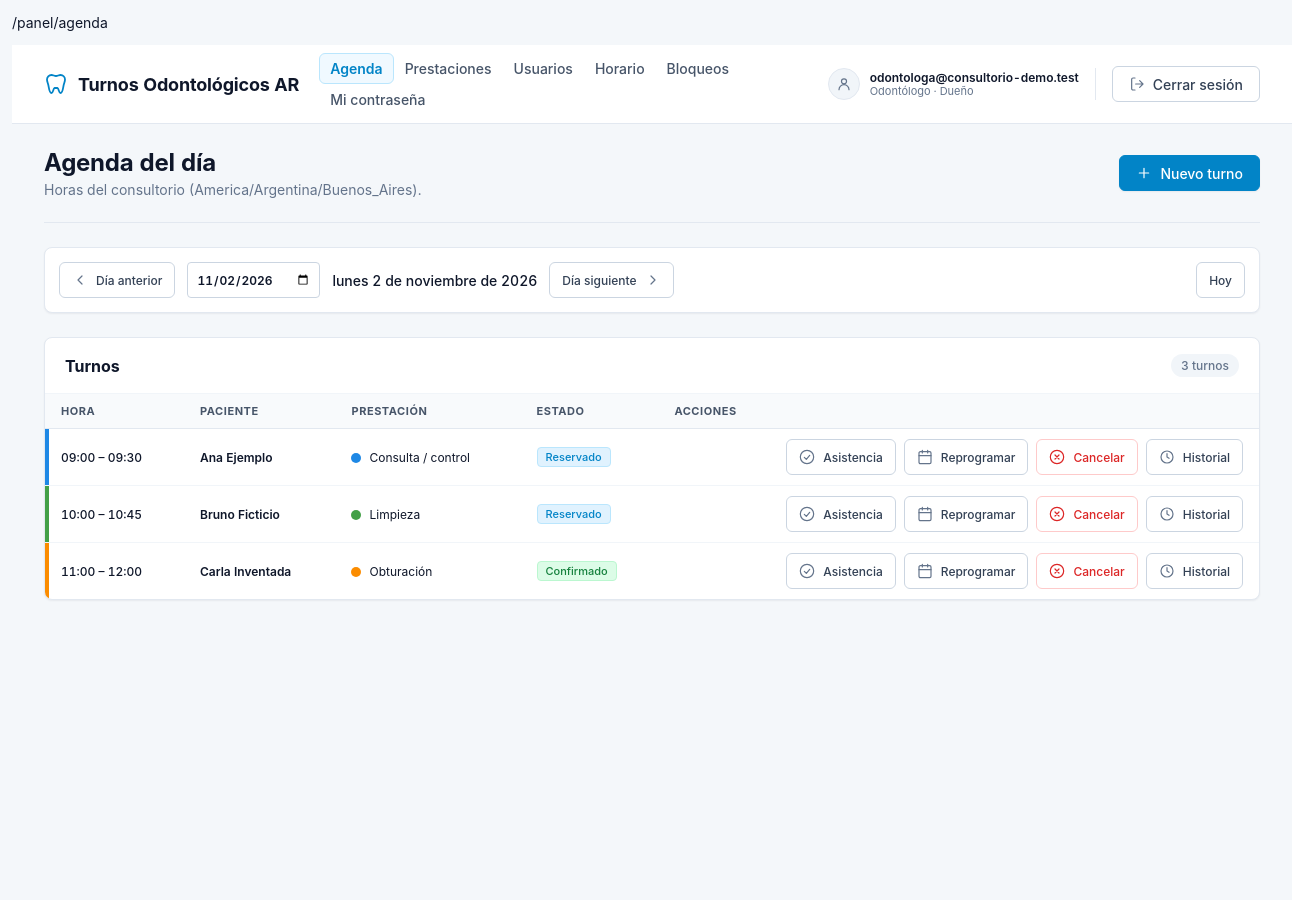
Test: PanelHistorial: ver el historial desde la agenda › HIS-2a: la odontóloga ve el historial
The image size is (1292, 900).
Expected: the text "lunes 2 de noviembre de 2026" is shown, [332,272,537,288]
Click the button with aria-label "Historial del turno de Ana Ejemplo, 09:00" at (1194, 457), box [1146,439,1243,475]
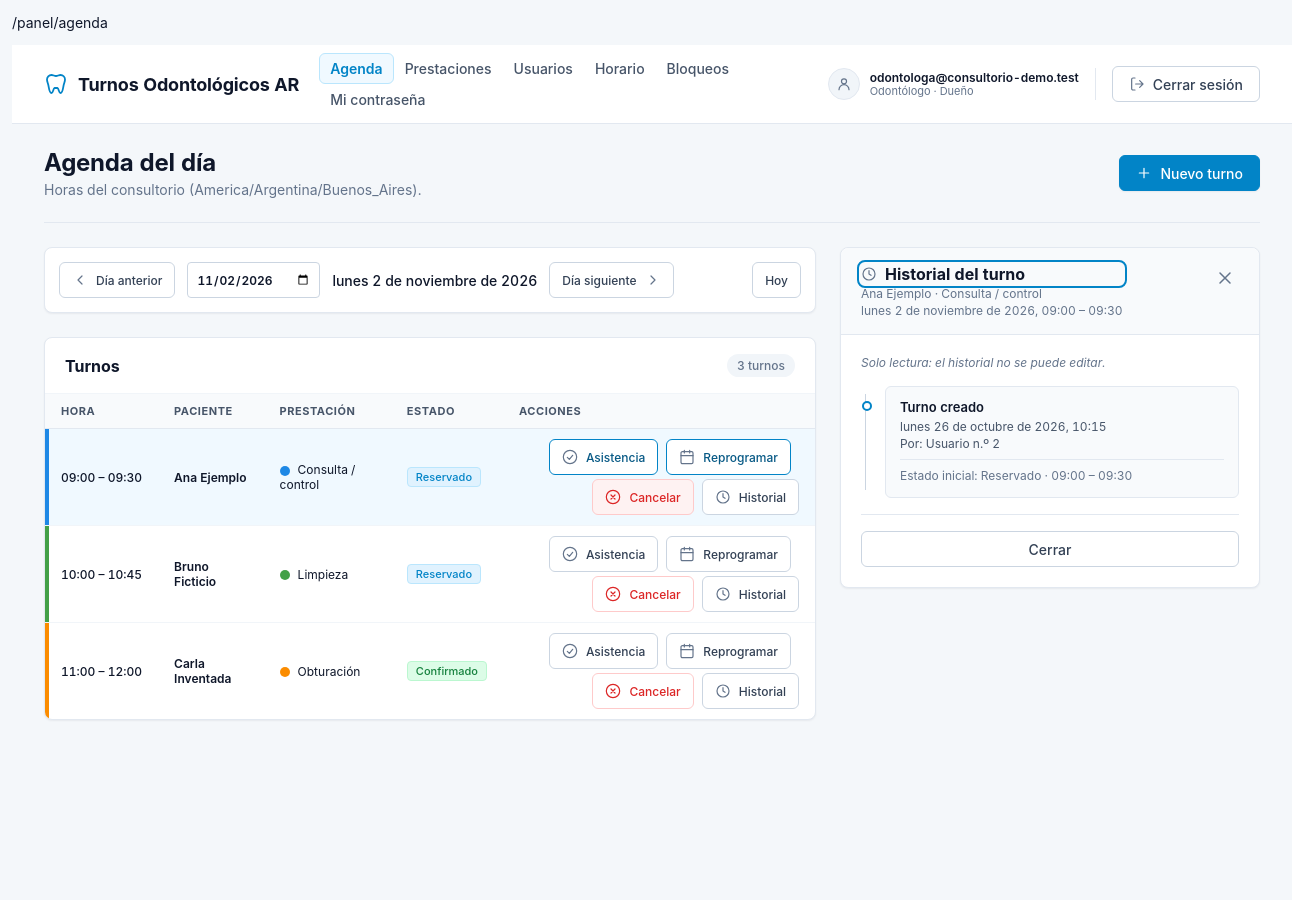
Now the heading "Turno creado" is shown, box [900,399,984,415]
Now the text "Por: Usuario n.º 2" is shown, box [900,436,1000,451]
